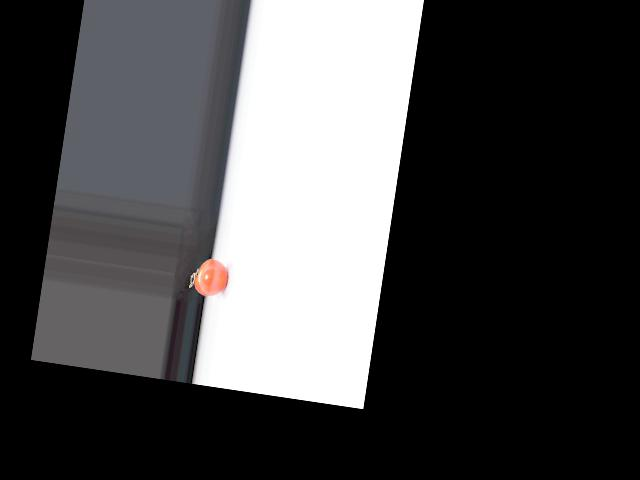tomato: (192, 256, 230, 298)
